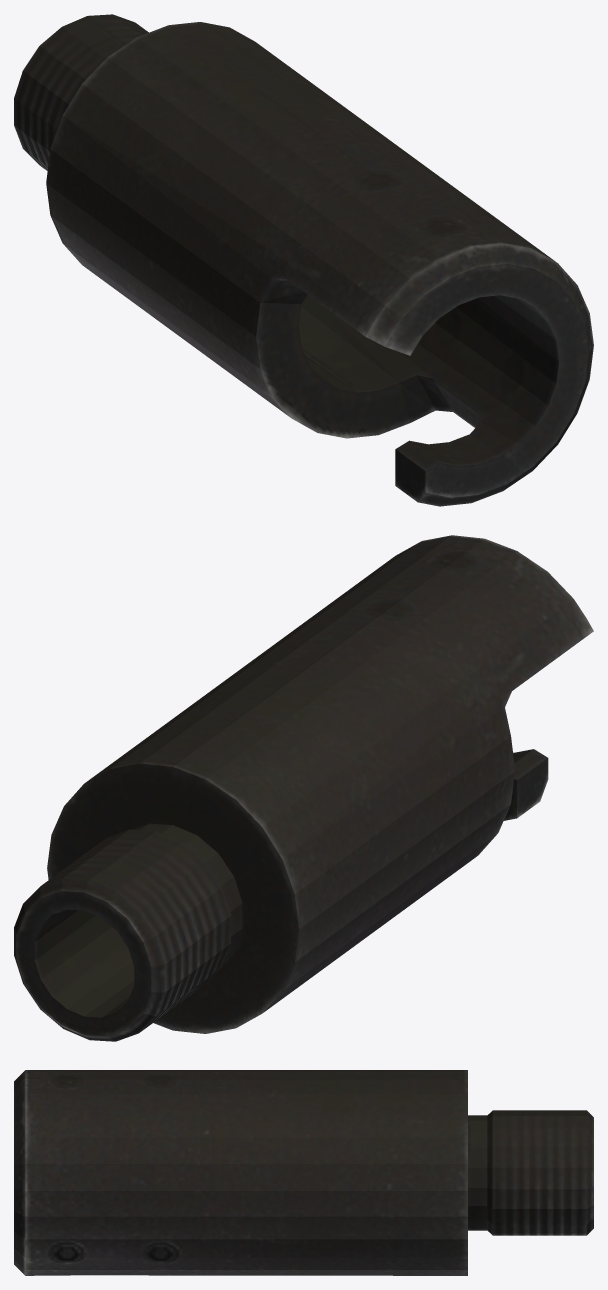
The picture shows the model from 3 angles, top to bottom: view 1: azimuth 30°, elevation 25°; view 2: azimuth 150°, elevation 25°; view 3: azimuth 270°, elevation 25°; orthographic projection. The views are drawn at different scales.
Visible parts, largest first — view 1: TW_5cf79599d7f00c10875d9212_PZ_Import; view 2: TW_5cf79599d7f00c10875d9212_PZ_Import; view 3: TW_5cf79599d7f00c10875d9212_PZ_Import.
Boxes of the visible parts, box(x1,y1,x2,y2) form: TW_5cf79599d7f00c10875d9212_PZ_Import: box(14, 14, 593, 506); TW_5cf79599d7f00c10875d9212_PZ_Import: box(14, 535, 593, 1041); TW_5cf79599d7f00c10875d9212_PZ_Import: box(14, 1070, 593, 1275).
Size of the model in its own units: 0.0132 by 0.037 by 0.0132.
1 material, 1 textured.
